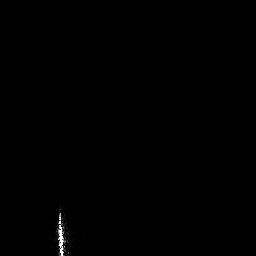ship: (55, 207, 71, 256)
